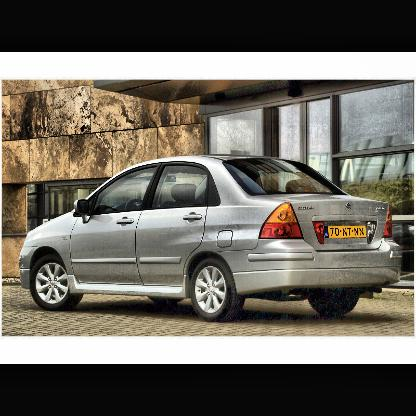Suzuki Aerio Sedan 2007: (18, 153, 401, 323)
